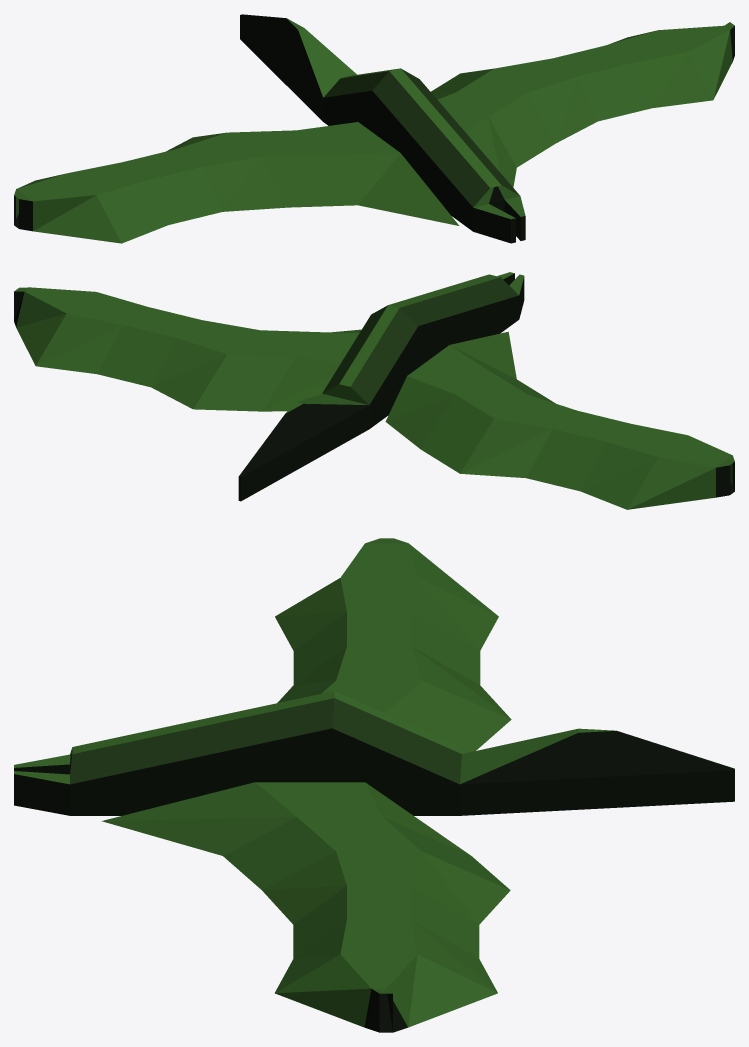
File: pteradactyl-flap-high.obj
The picture shows the model from 3 angles, top to bottom: view 1: azimuth 30°, elevation 25°; view 2: azimuth 150°, elevation 25°; view 3: azimuth 270°, elevation 25°; orthographic projection. The views are drawn at different scales.
Visible parts, largest first — view 1: Cube_Cube.001; view 2: Cube_Cube.001; view 3: Cube_Cube.001.
Boxes of the visible parts, <box> form: Cube_Cube.001: <box>14,14,734,243</box>; Cube_Cube.001: <box>14,272,734,509</box>; Cube_Cube.001: <box>14,538,734,1032</box>.
Size of the model in its own units: 4.06 by 0.4647 by 2.72.
